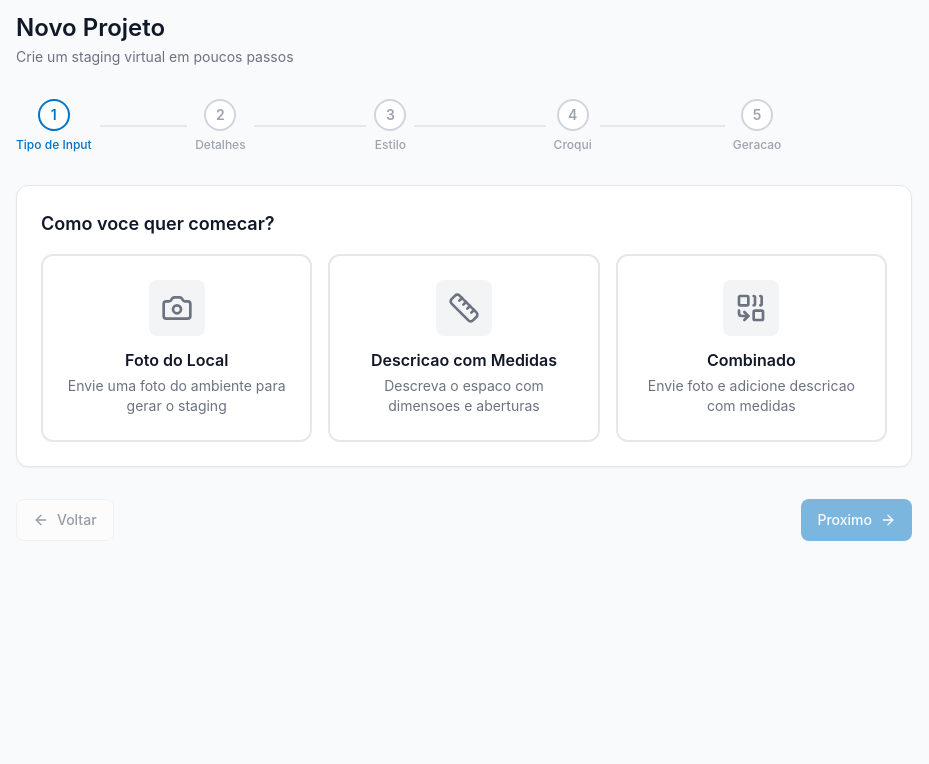
Scenario: NewProjectPage › navigates to Step 2 (photo variant) after selecting photo
Step 1. Click the heading "Foto do Local" → click(177, 360), box [125,350,228,370]
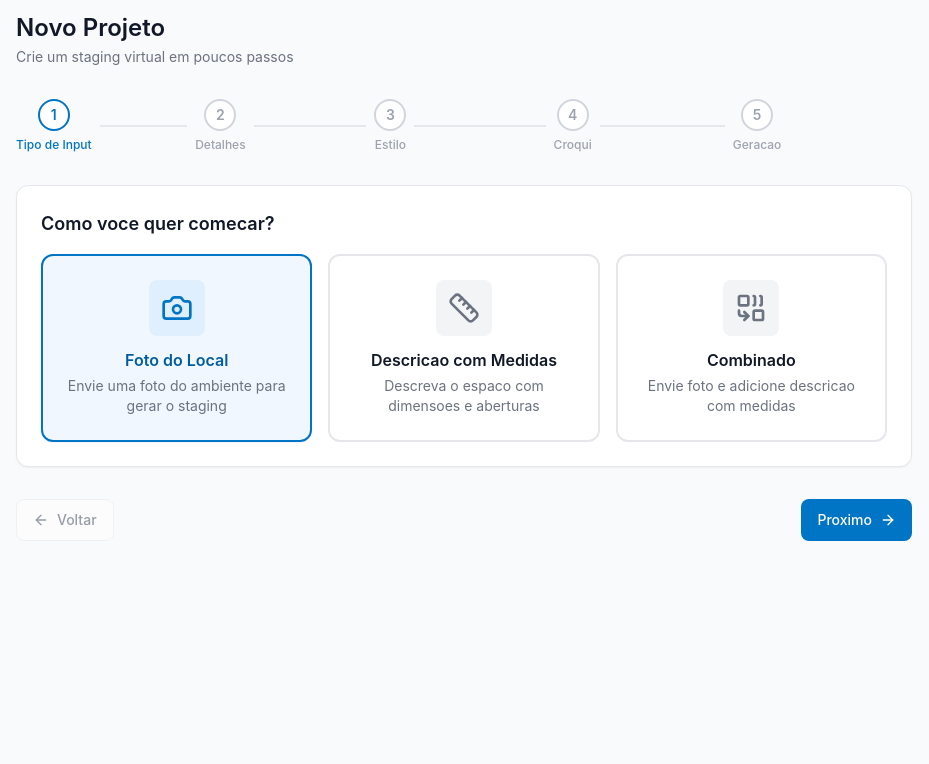
Step 2. Click the button "Proximo" → click(857, 520), box [802,499,912,541]
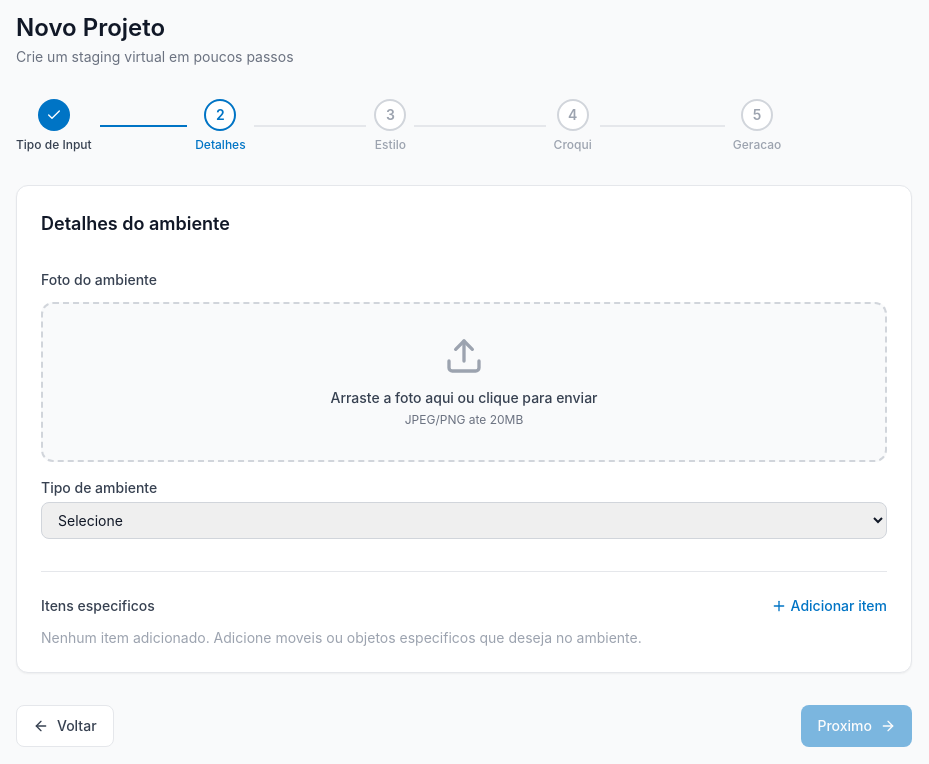
Expected: the heading "Detalhes do ambiente" is shown, [41,213,230,234]
Expected: the text "Arraste a foto aqui ou clique para enviar" is shown, [330,388,598,408]
